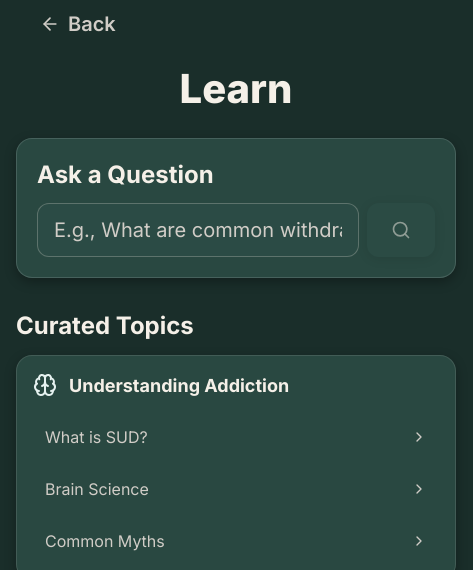
Test: Educational Resources › renders a read aloud button on the answer
The width and height of the screenshot is (473, 570).
Type "Tell me about recovery" into the field with placeholder "E.g., What are common withdrawal signs?" at (198, 230), box [37, 203, 359, 257]
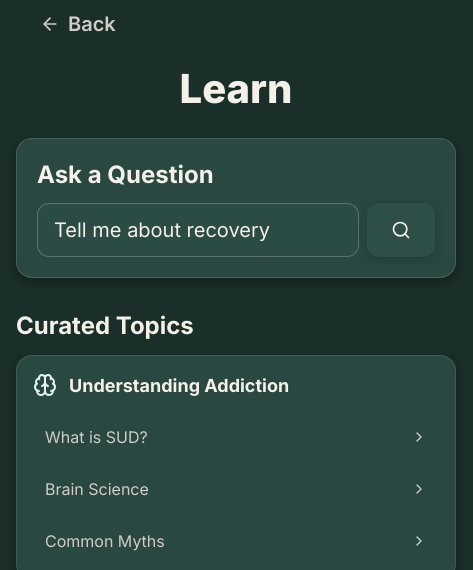
Click the button named "search" at (401, 230), box [367, 203, 435, 257]
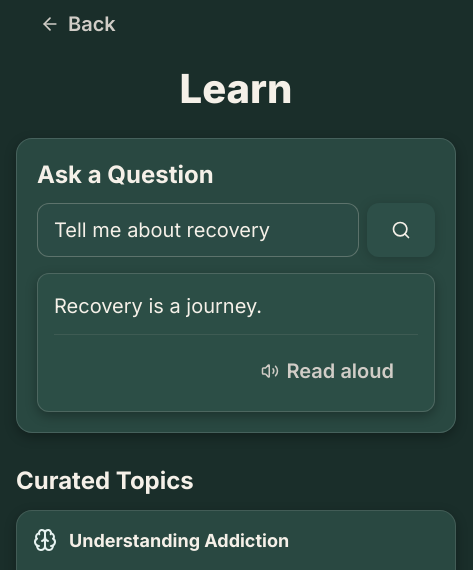
Now the button "Read aloud" is shown, box [237, 347, 418, 395]
